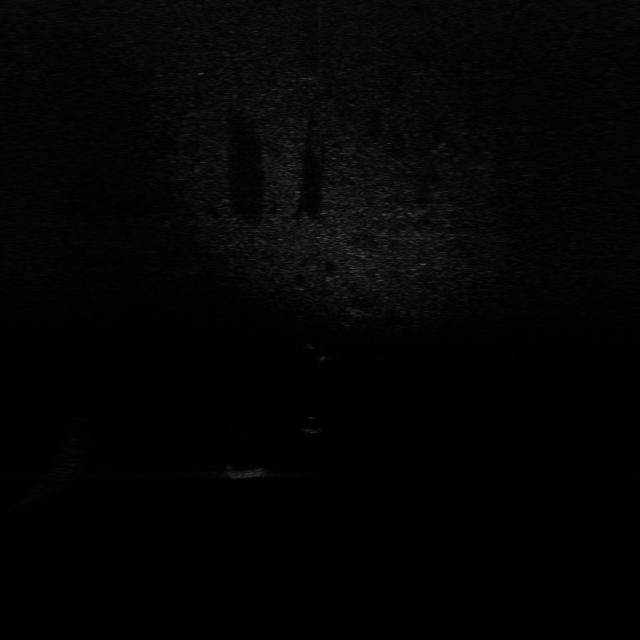ball: (300, 415, 326, 434)
human body: (304, 326, 330, 365)
square cage: (223, 459, 273, 480)
